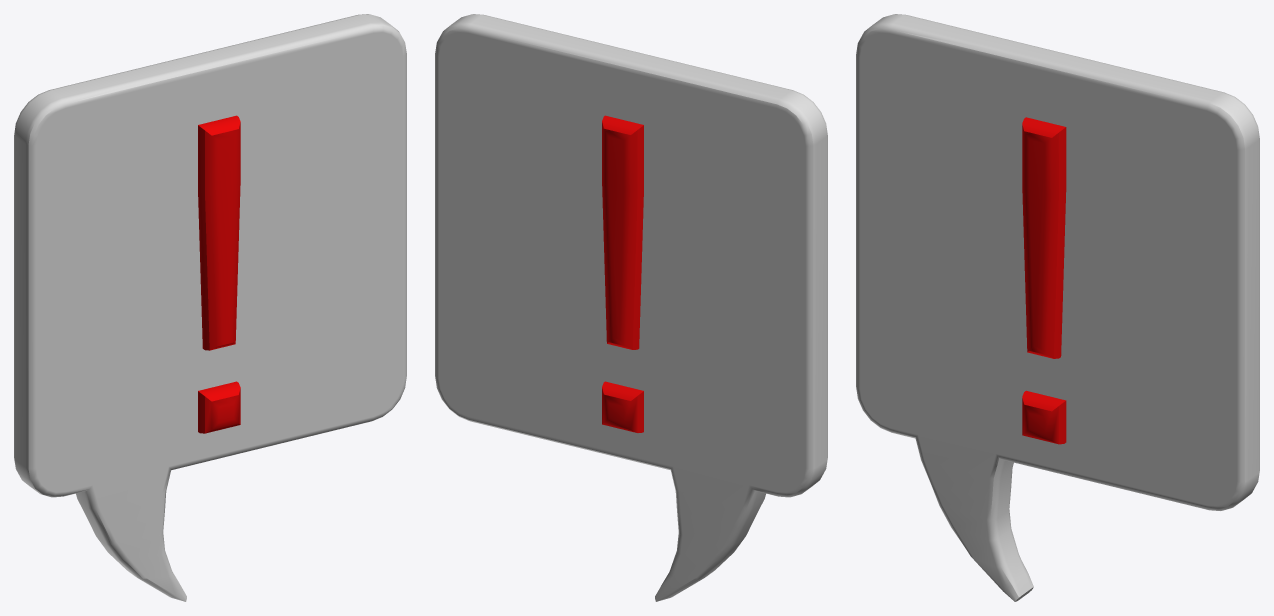
File: BocadilloExclamacion.fbx
3 views of the same model, side by side, from view 1: azimuth 30°, elevation 25°; view 2: azimuth 150°, elevation 25°; view 3: azimuth 330°, elevation 25° (orthographic). The views are drawn at different scales.
Parts seen in each view (by area): view 1: Bocadillo_Exclamación, Exclamacion; view 2: Bocadillo_Exclamación, Exclamacion; view 3: Bocadillo_Exclamación, Exclamacion.
Part boxes in pixels (<box>): Bocadillo_Exclamación: <box>14,14,406,601</box>; Exclamacion: <box>198,115,240,433</box>; Bocadillo_Exclamación: <box>435,14,827,601</box>; Exclamacion: <box>602,115,643,432</box>; Bocadillo_Exclamación: <box>856,14,1259,601</box>; Exclamacion: <box>1022,117,1066,444</box>.
Size of the model in its own units: 57.32 by 76.61 by 9.25.
